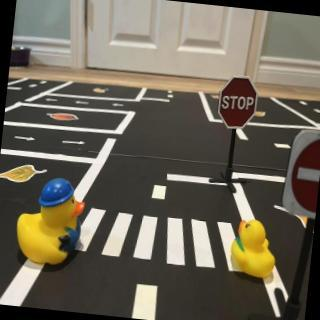duck_regular: (228, 217, 281, 283)
duck_specialty: (14, 176, 89, 271)
road_crosswalk: (72, 204, 254, 272)
road_oneway: (60, 137, 89, 150), (11, 132, 38, 145), (74, 100, 92, 108), (43, 97, 61, 105), (110, 101, 126, 109)
sign_noentry: (278, 126, 320, 219)
sign_stop: (217, 75, 261, 133)
